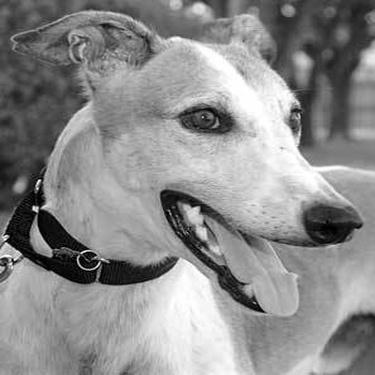dog: (1, 14, 367, 372)
